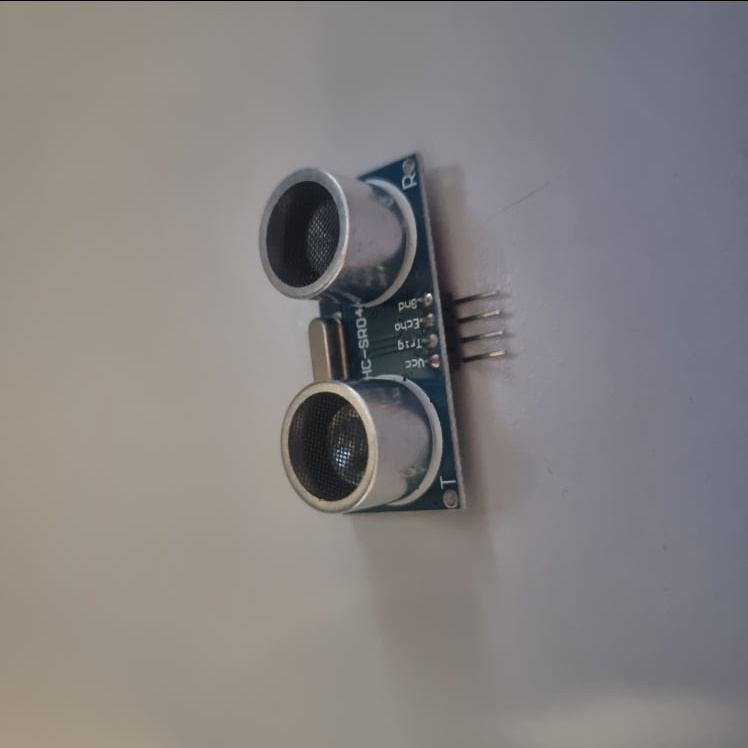SENSOR: (259, 146, 503, 513)
